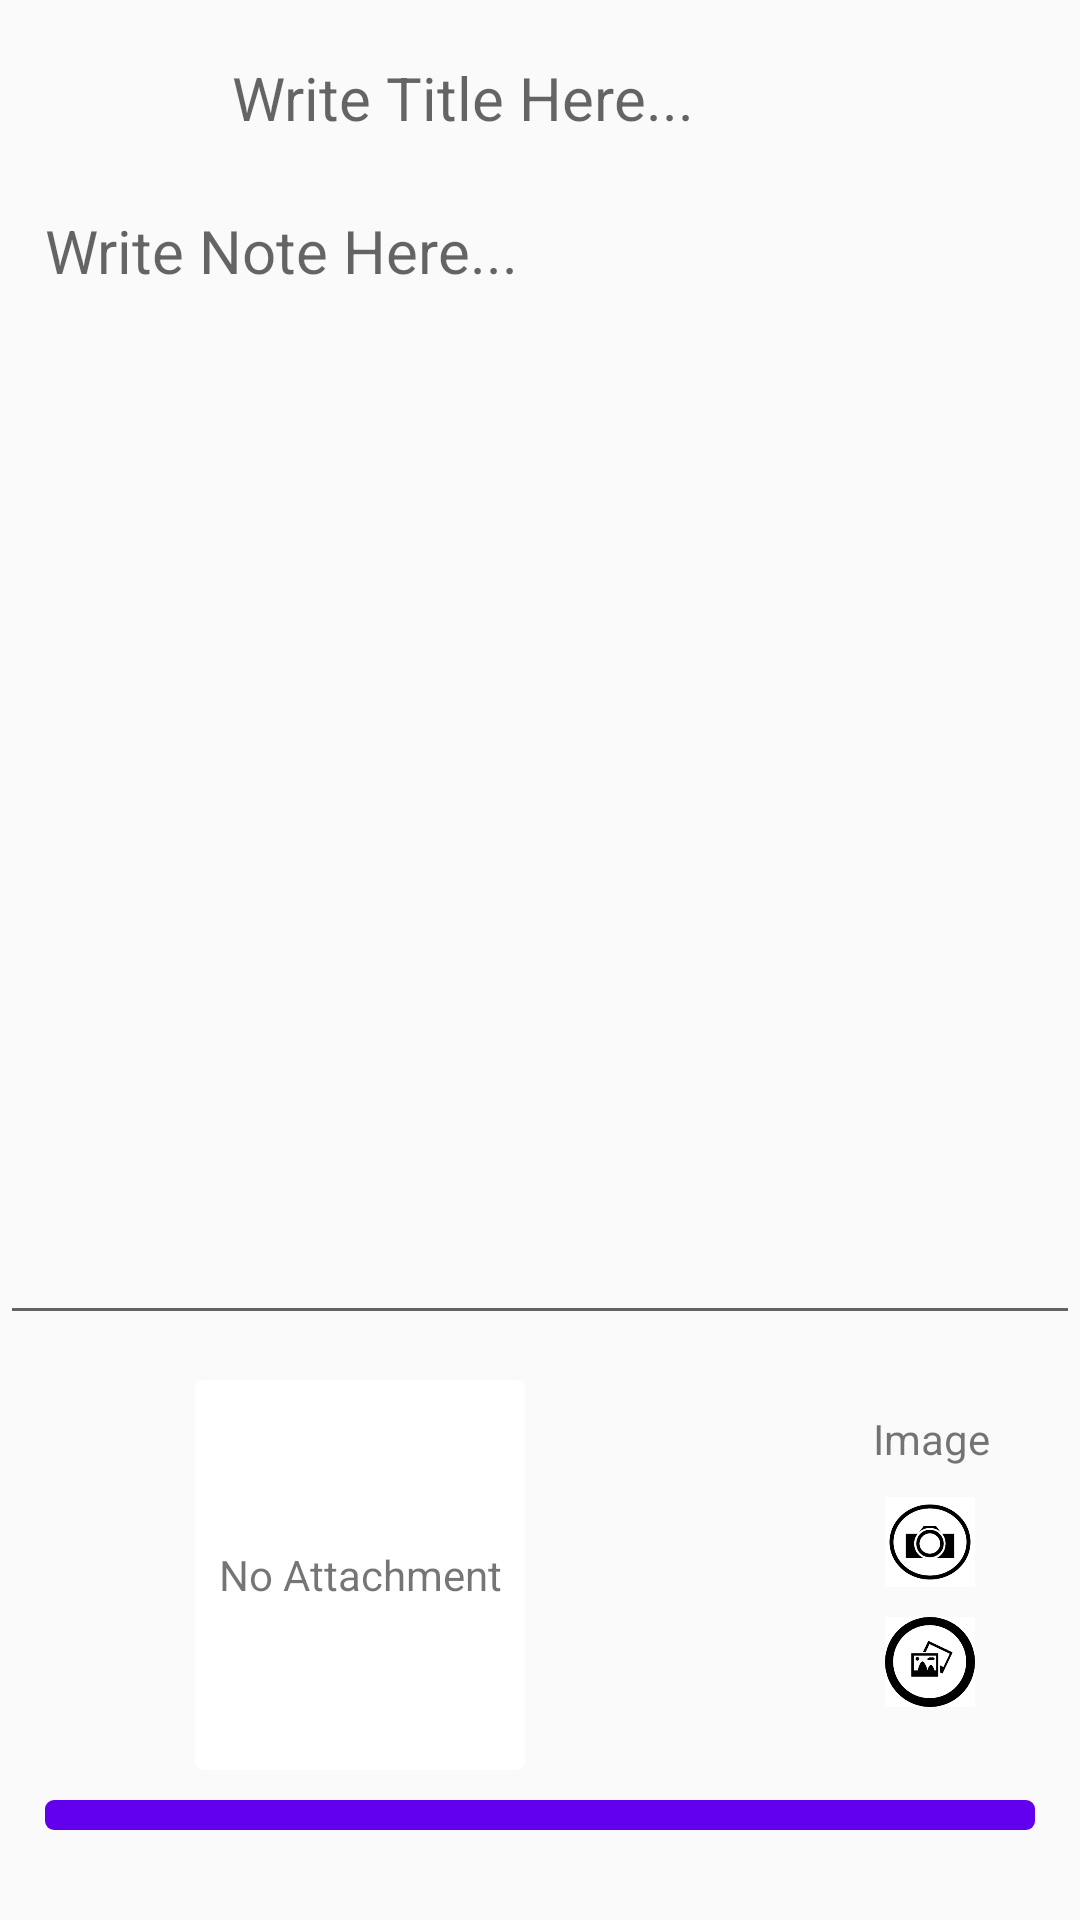

Screen size 1080px×1920px. Icon name, then its center in pixels as [x,y]:
camera: [930,1542]
gallery: [930,1662]
